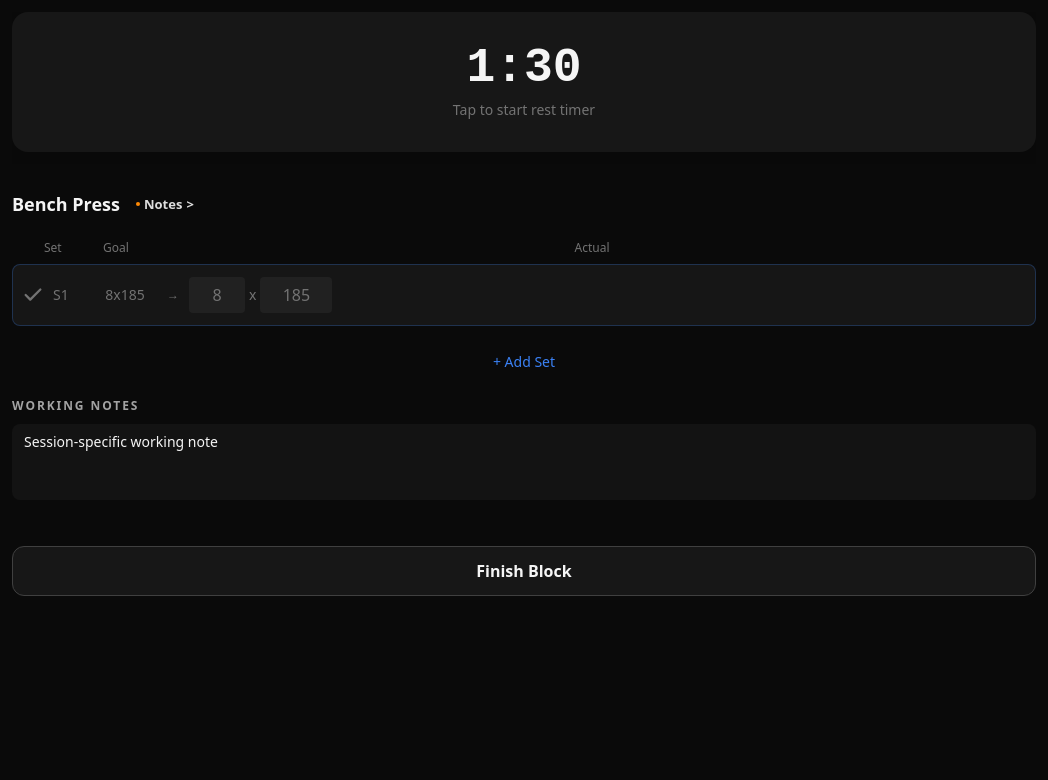
Test: note surfaces › edits exercise guidance separately from working notes during a block
Check: the text "Working Notes" is shown, box [12, 398, 139, 414]
Check: the text box showing "Session-specific working note" is shown, box [12, 424, 1036, 500]
Step 1. Click the button "Notes >" → x=165, y=204, box [128, 180, 202, 228]
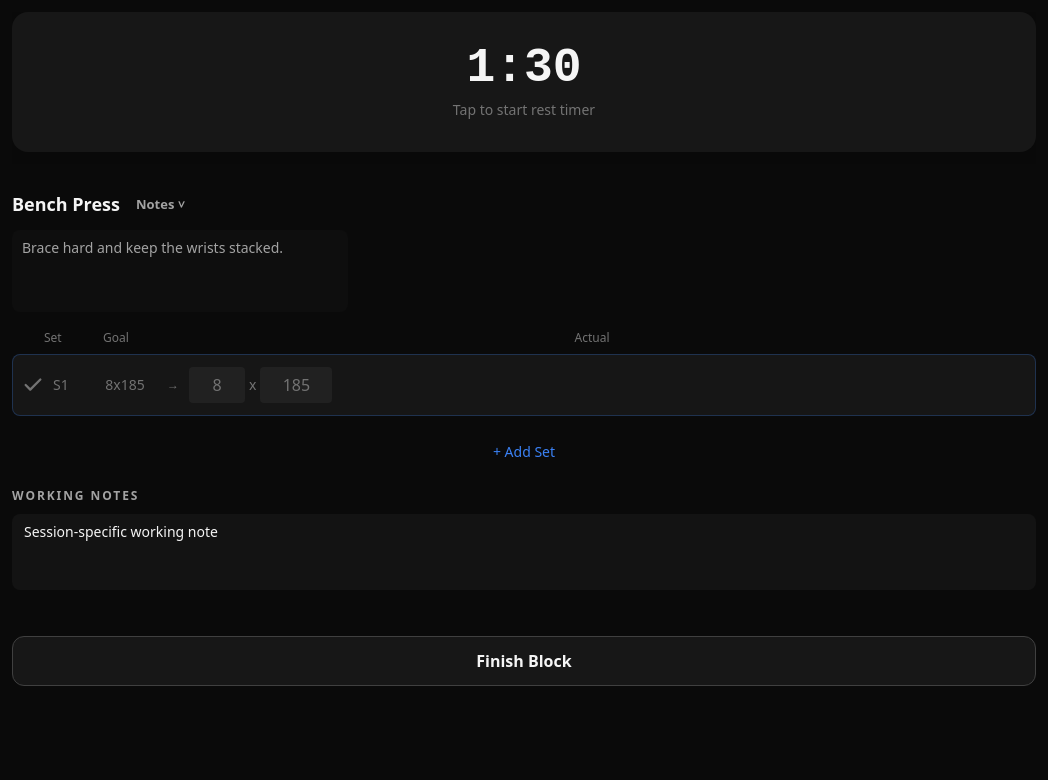
Check: the text box showing "Session-specific working note" is shown, box [12, 514, 1036, 590]
Check: the text box showing "Brace hard and keep the wrists stacked." is shown
Check: the button "Notes >" is expanded, box [128, 180, 194, 228]
Step 2. Replace the text in the text box showing "Brace hard and keep the wrists stacked." with " Brace hard and drive back into the pad. " → x=180, y=268, box [22, 238, 338, 298]
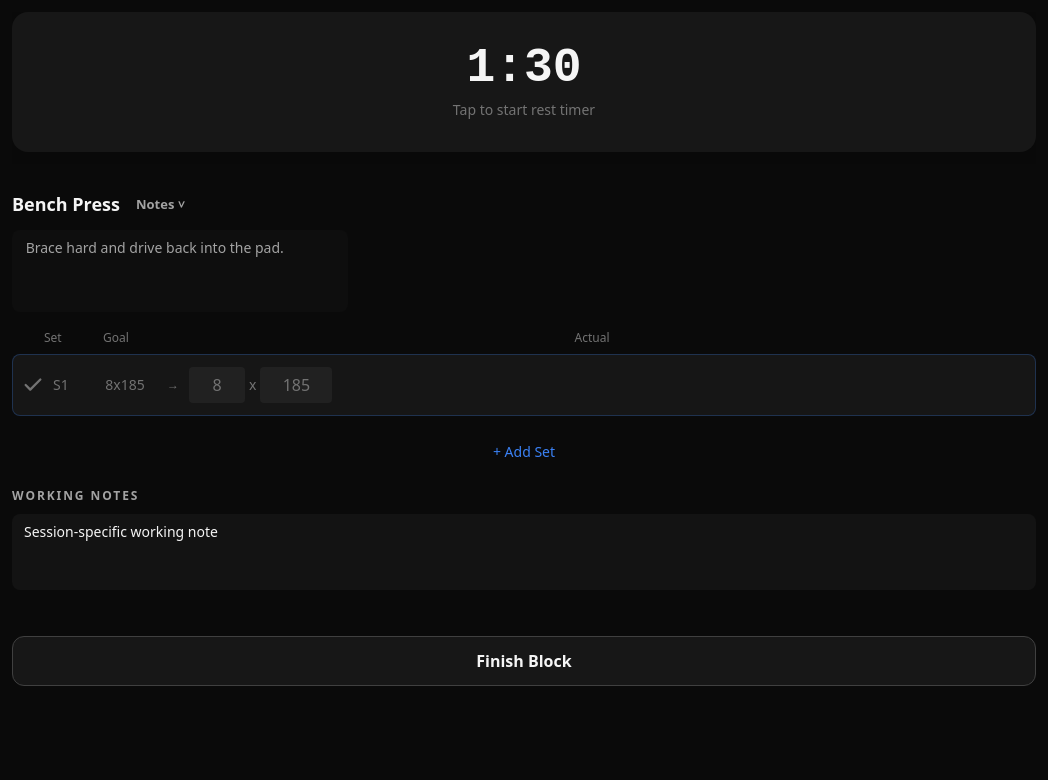
Step 3. Click the button "Notes >" → x=161, y=204, box [128, 180, 194, 228]
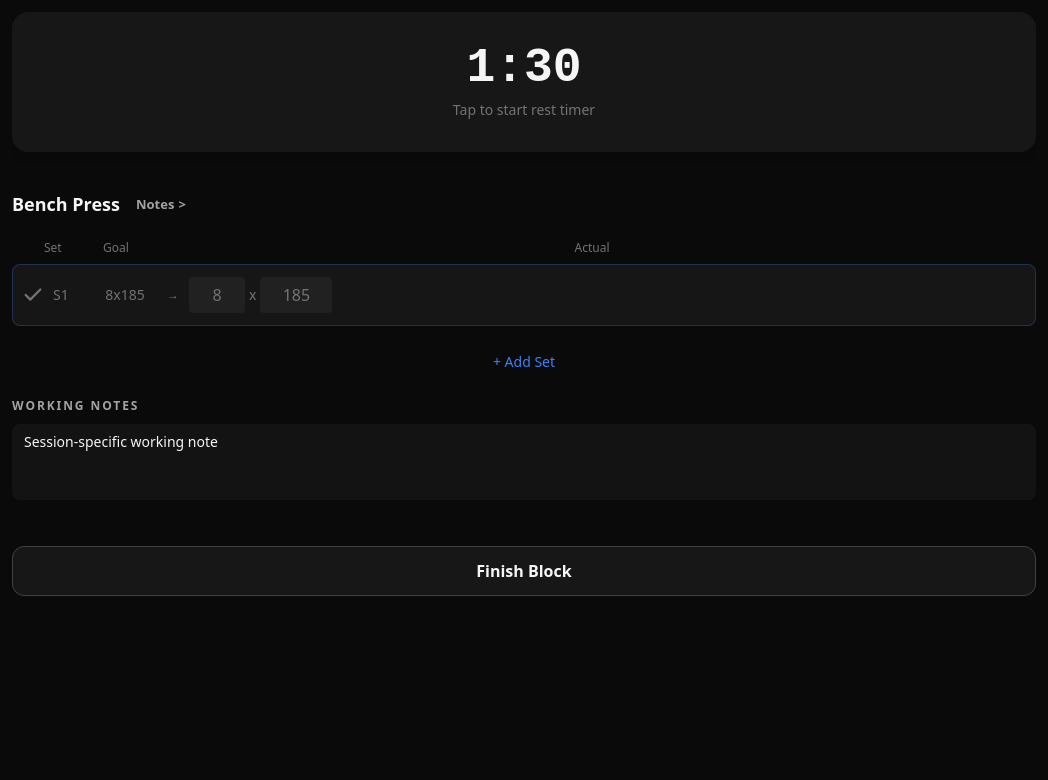
Check: the button "Notes >" is collapsed, box [128, 180, 194, 228]
